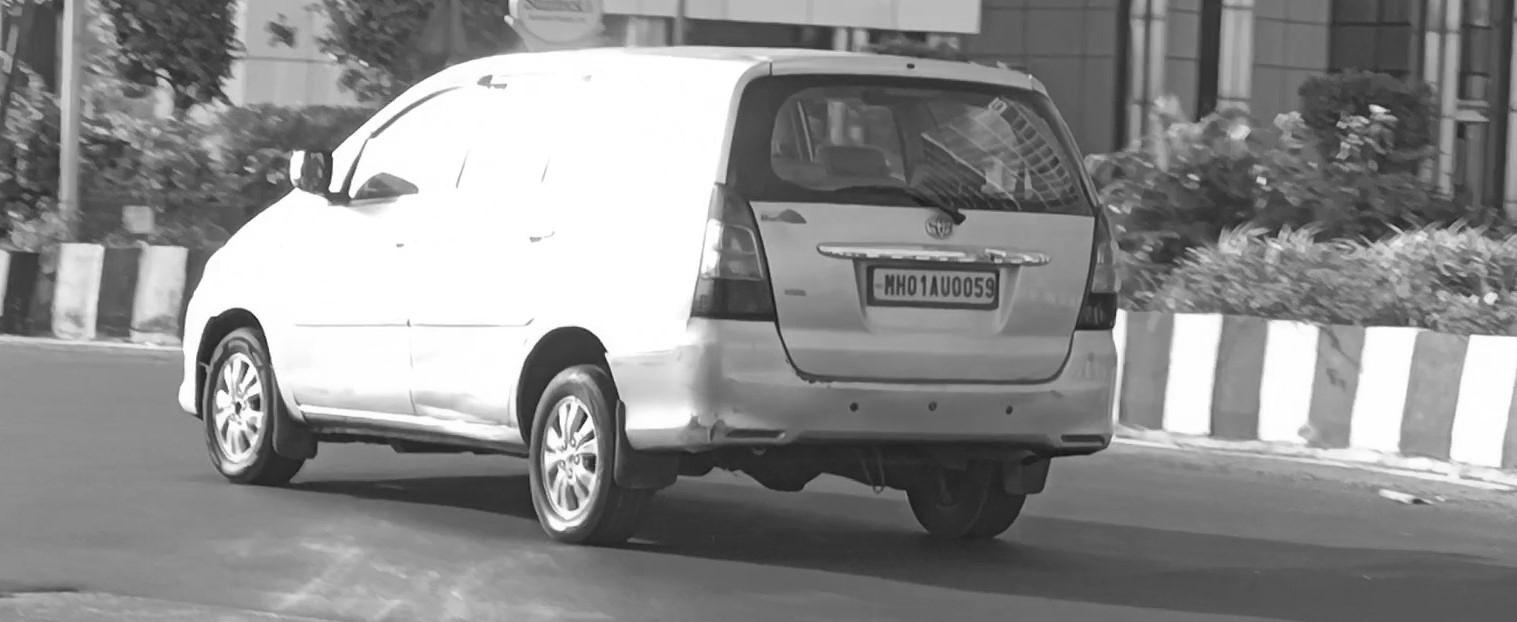number_plate: (871, 269, 999, 305)
